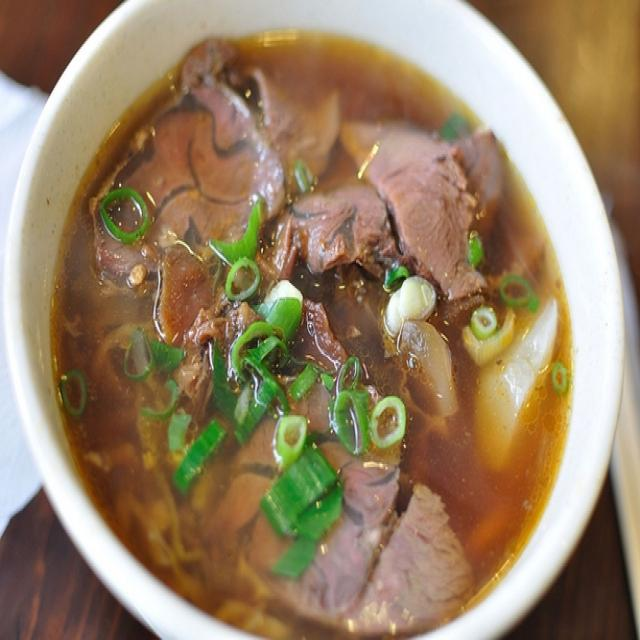面条主食: (29, 24, 597, 634)
